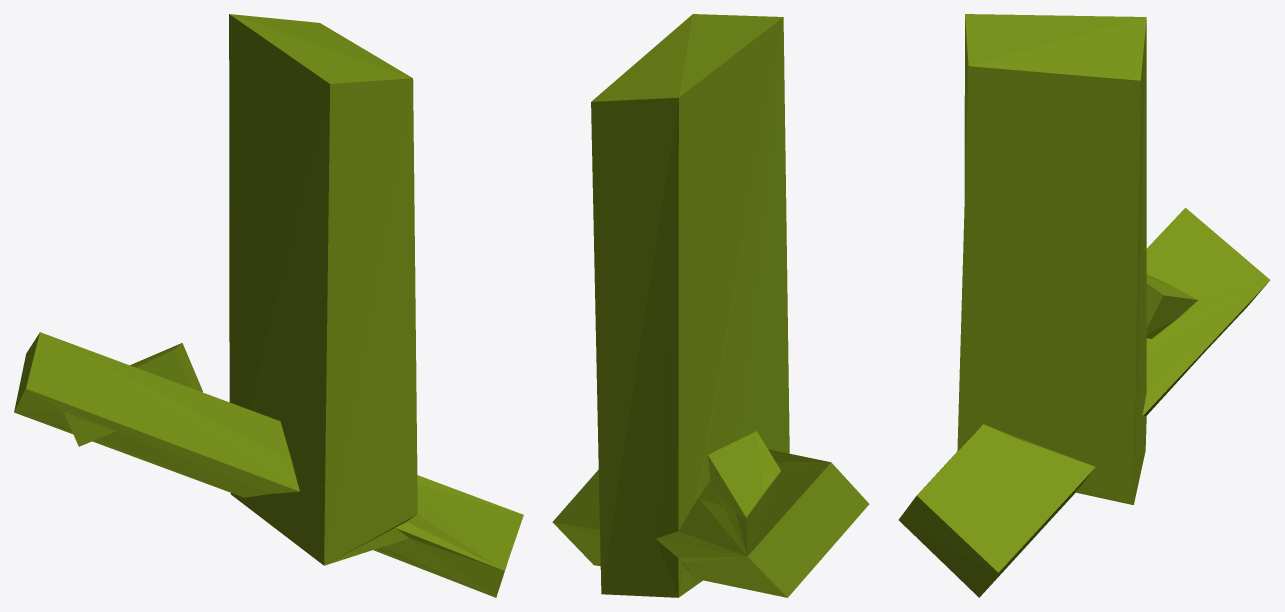
3 views of the same model, side by side, from view 1: azimuth 30°, elevation 25°; view 2: azimuth 150°, elevation 25°; view 3: azimuth 270°, elevation 25° (orthographic). The views are drawn at different scales.
Visible parts, largest first — view 1: 586_Cube.2359; view 2: 586_Cube.2359; view 3: 586_Cube.2359.
Boxes of the visible parts, box(x1,y1,x2,y2) form: 586_Cube.2359: box(14, 14, 523, 597); 586_Cube.2359: box(552, 14, 869, 597); 586_Cube.2359: box(898, 14, 1270, 597).
Size of the model in its own units: 10.64 by 14.41 by 9.58.
